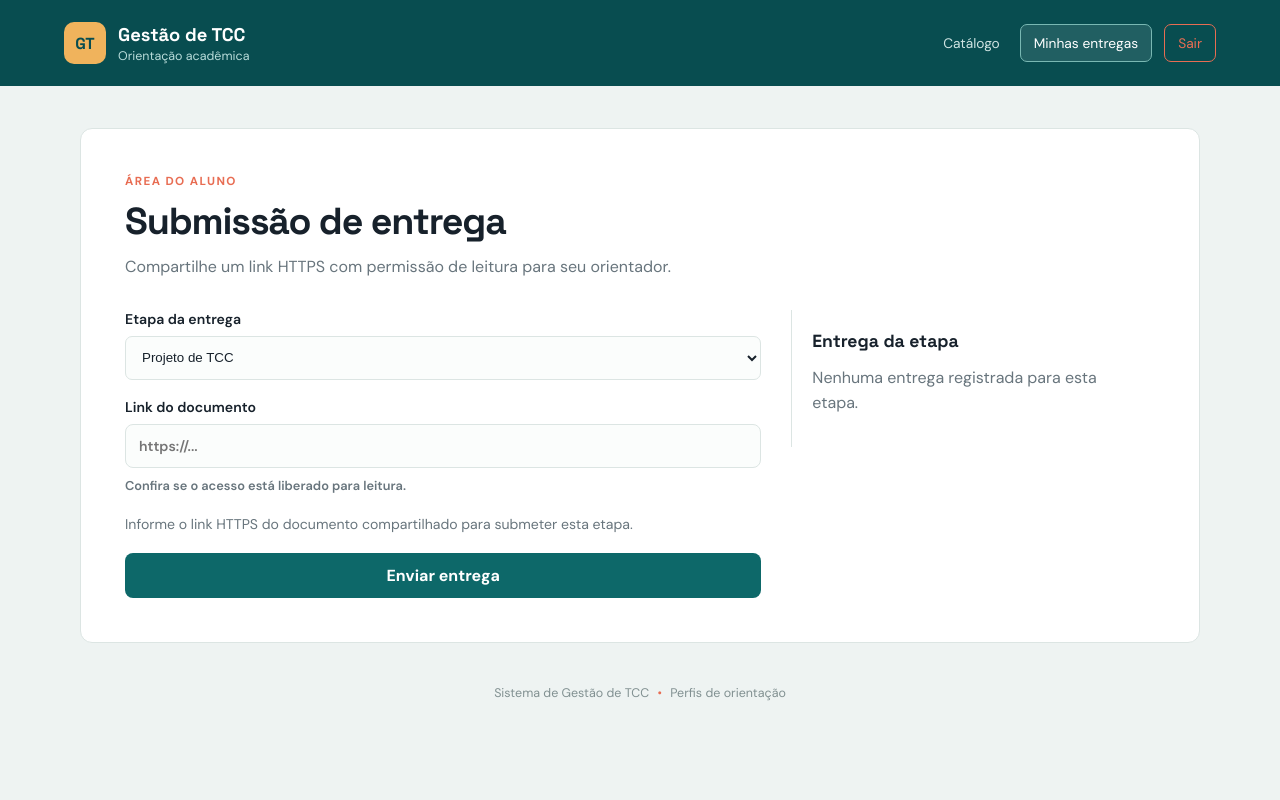
Test case: SubmissaoEntregaPage › exibe a mensagem de validação da API para status 400
Type "https://documento.exemplo/tcc" into the field labelled "Link do documento" at {"x": 443, "y": 446}, box [125,424,761,468]
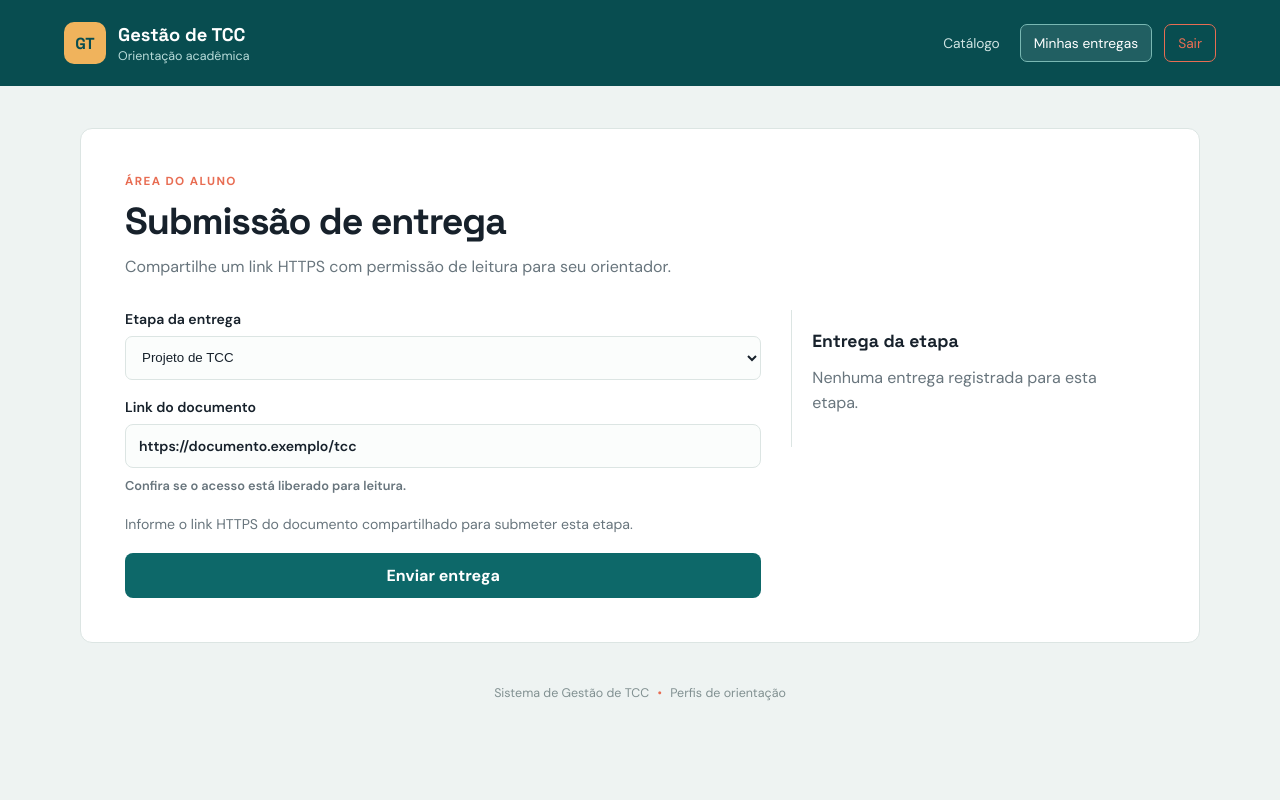
Click the button "Enviar entrega" at {"x": 443, "y": 576}, box [125,553,761,598]
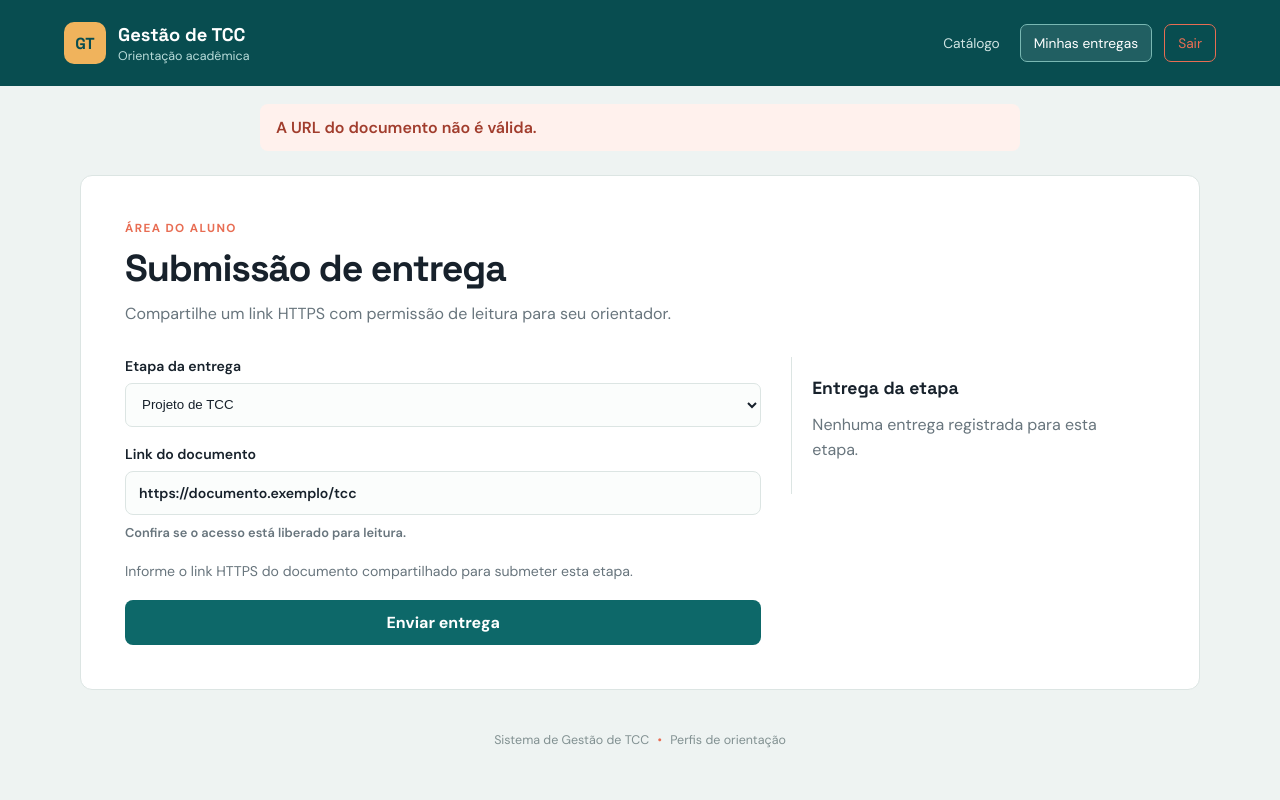
Now the text "A URL do documento não é válida." is shown, box [260,104,1020,151]
